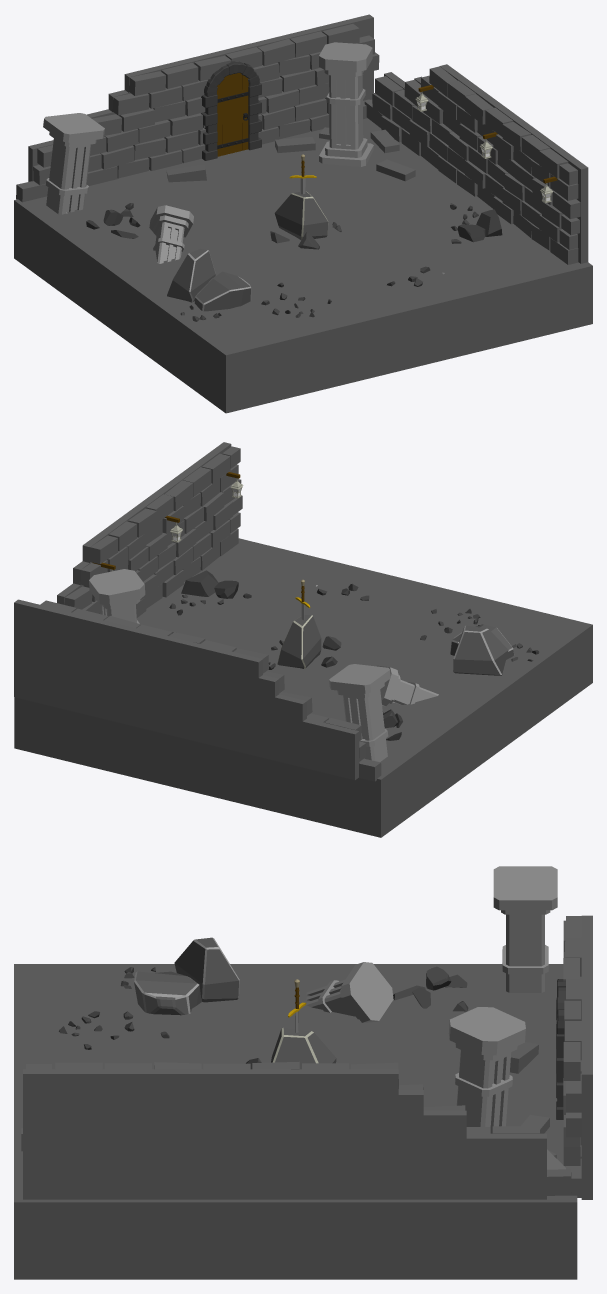
File: PFE-Environnement.fbx
The picture shows the model from 3 angles, top to bottom: view 1: azimuth 30°, elevation 25°; view 2: azimuth 150°, elevation 25°; view 3: azimuth 270°, elevation 25°; orthographic projection. The views are drawn at different scales.
Visible parts, largest first — view 1: Cube_cell.040; view 2: Cube_cell.040; view 3: Cube_cell.040.
Boxes of the visible parts, left/top/right/bottom form: Cube_cell.040: left=14, top=14, right=592, bottom=413; Cube_cell.040: left=14, top=442, right=592, bottom=837; Cube_cell.040: left=14, top=866, right=592, bottom=1279.
Bounding box in the file's own units: 1394 × 582 × 1433.
